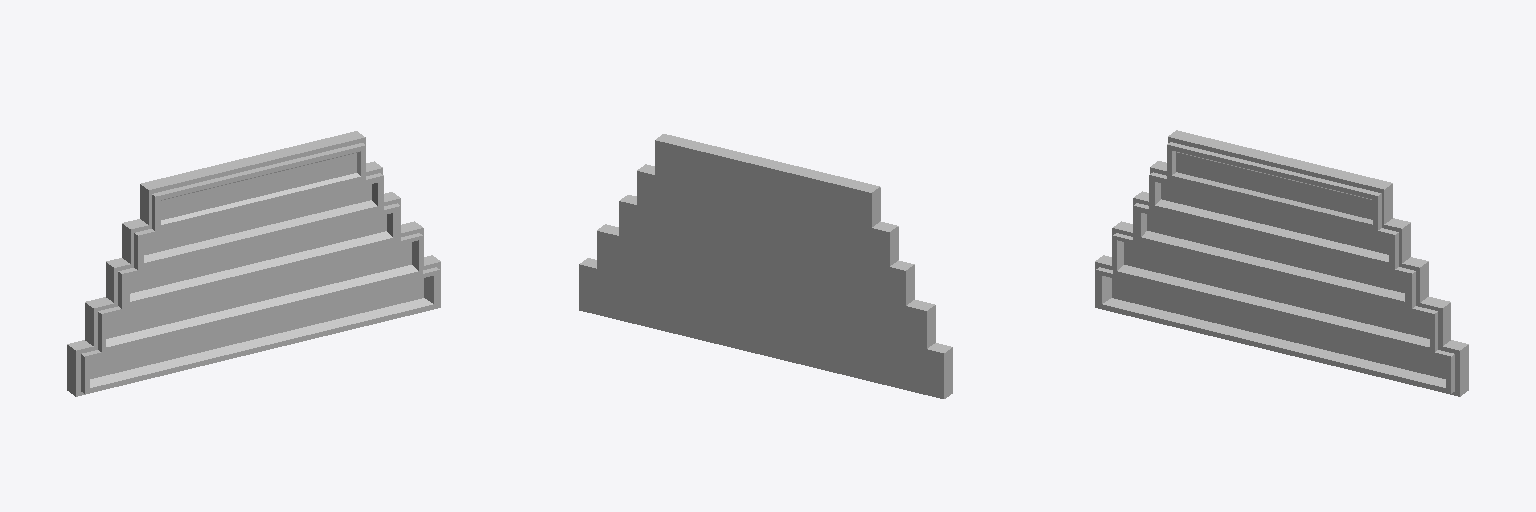
The model's file is eskala.obj.
The picture shows the model from 3 angles: view 1: azimuth 30°, elevation 25°; view 2: azimuth 150°, elevation 25°; view 3: azimuth 330°, elevation 25°; orthographic projection.
Parts seen in each view (by area): view 1: pCube1; view 2: pCube1; view 3: pCube1.
Boxes of the visible parts, <box> form: pCube1: <box>67,131,440,396</box>; pCube1: <box>579,134,952,398</box>; pCube1: <box>1095,130,1468,396</box>.
Bounding box in the file's own units: 23.65 × 11.68 × 1.41.